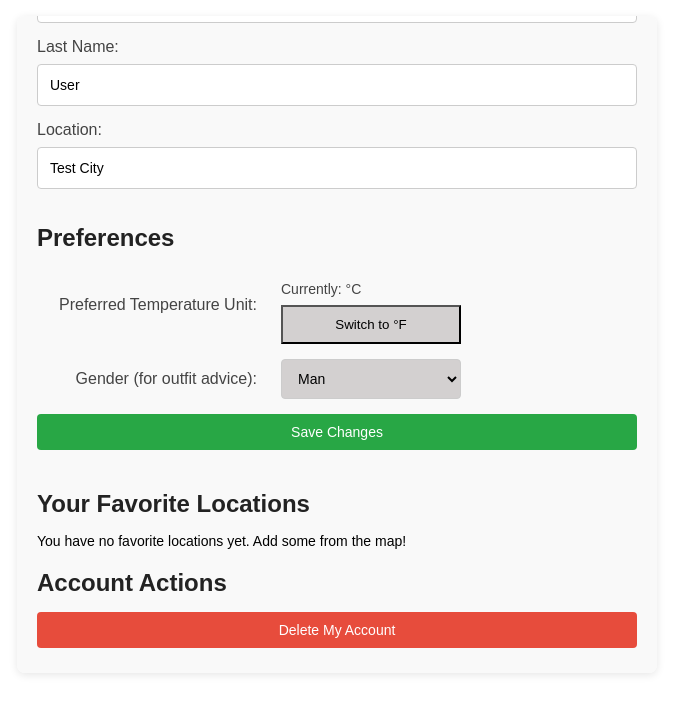
UserProfileDisplay Component › parses and displays username error on save failure
(page scrolled)
Click the button "Save Changes": point(337, 432) [37,414,637,450]
(page scrolled)
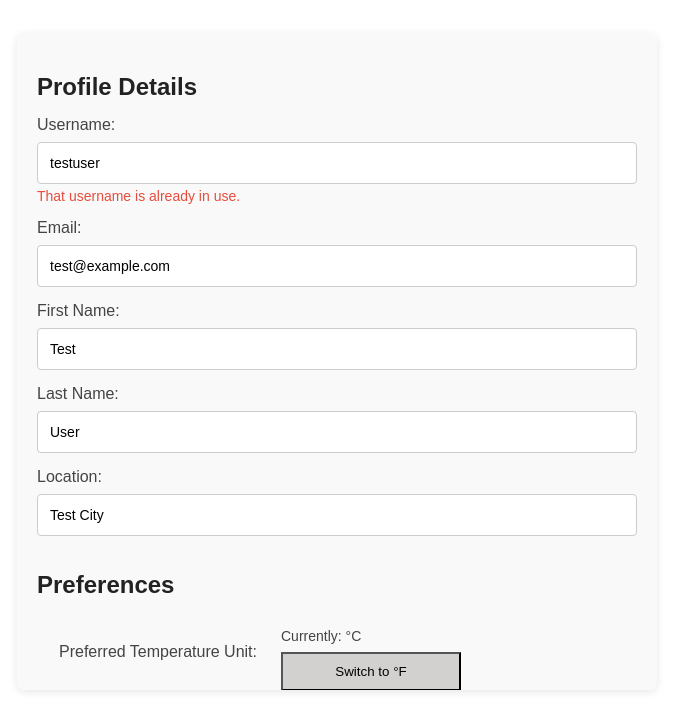
Check: the text "That username is already in use." is shown, box [37,188,240,204]
